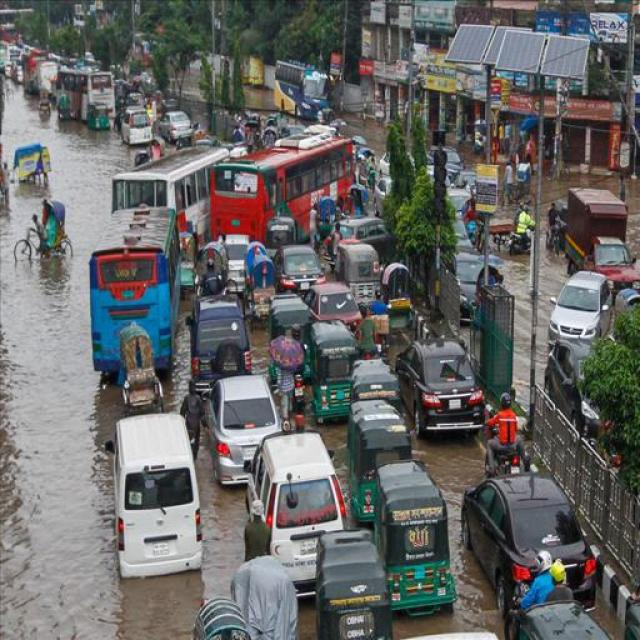puddle: (3, 268, 113, 640), (52, 132, 113, 244)
